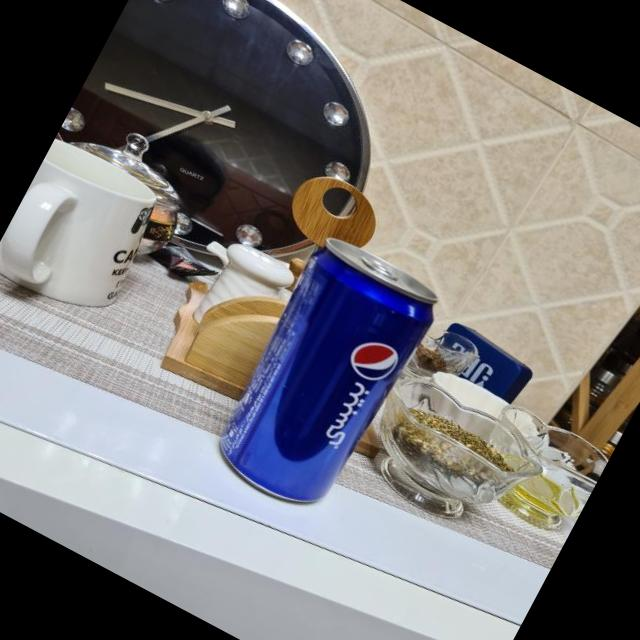Kaleng: (195, 222, 453, 532)
